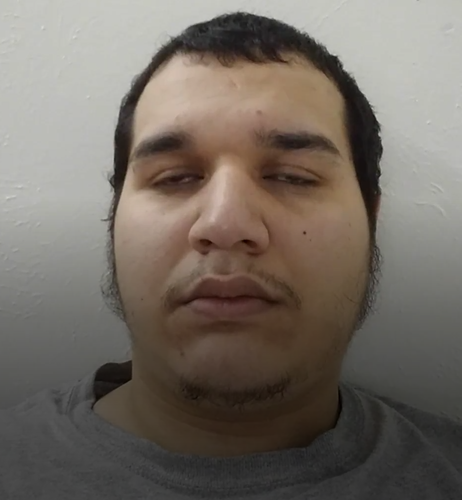Sleeping: (121, 129, 357, 210)
